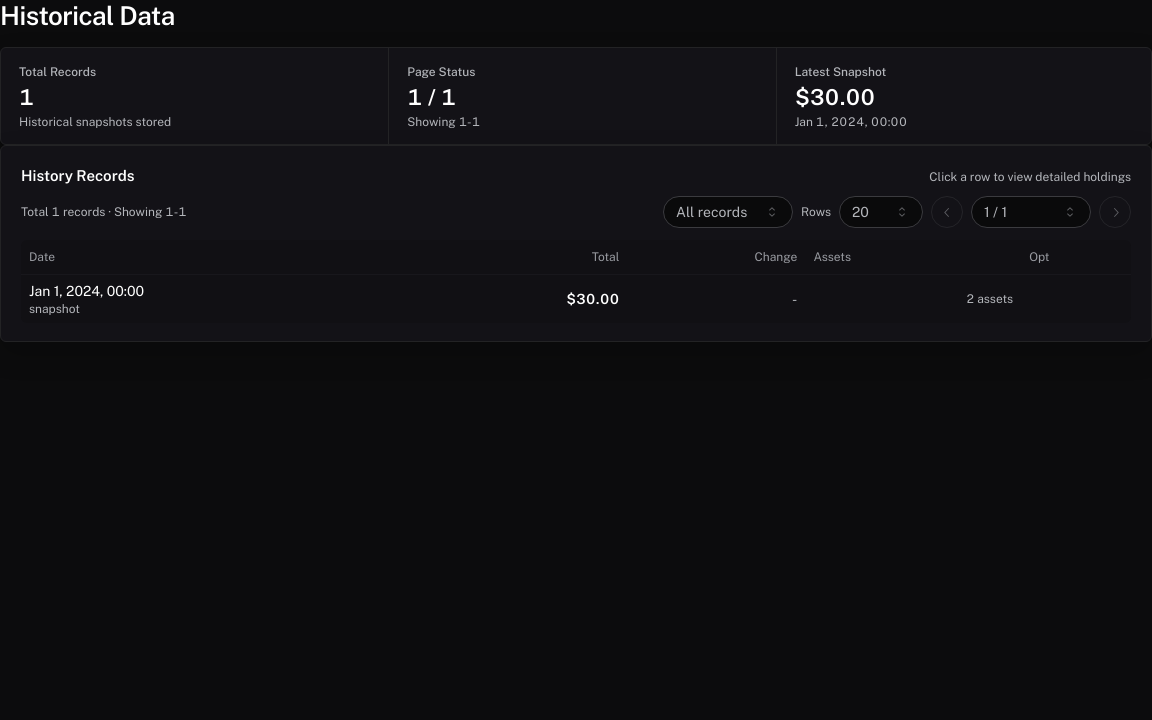
it: updates the visible snapshot total after deleting one detail asset
Click the text "snapshot" at [54, 309], box [29,302,80,316]
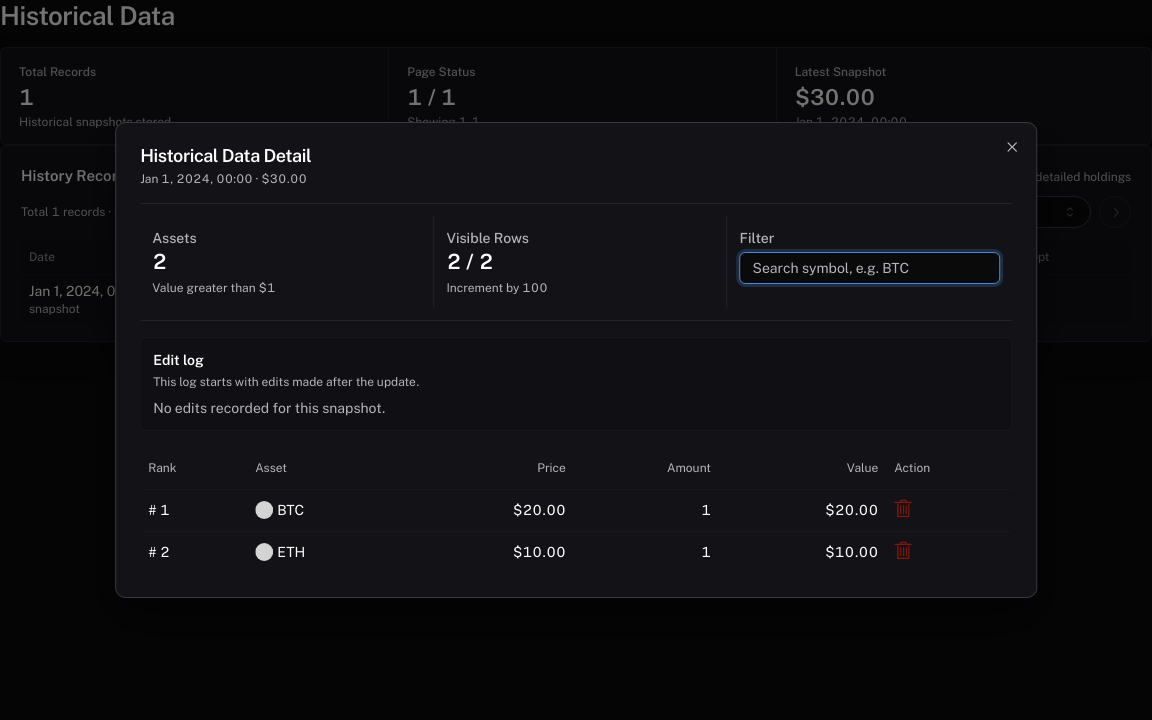
Click the button named "Delete" in the row of "ETH" at [903, 550], box [894,541,912,559]
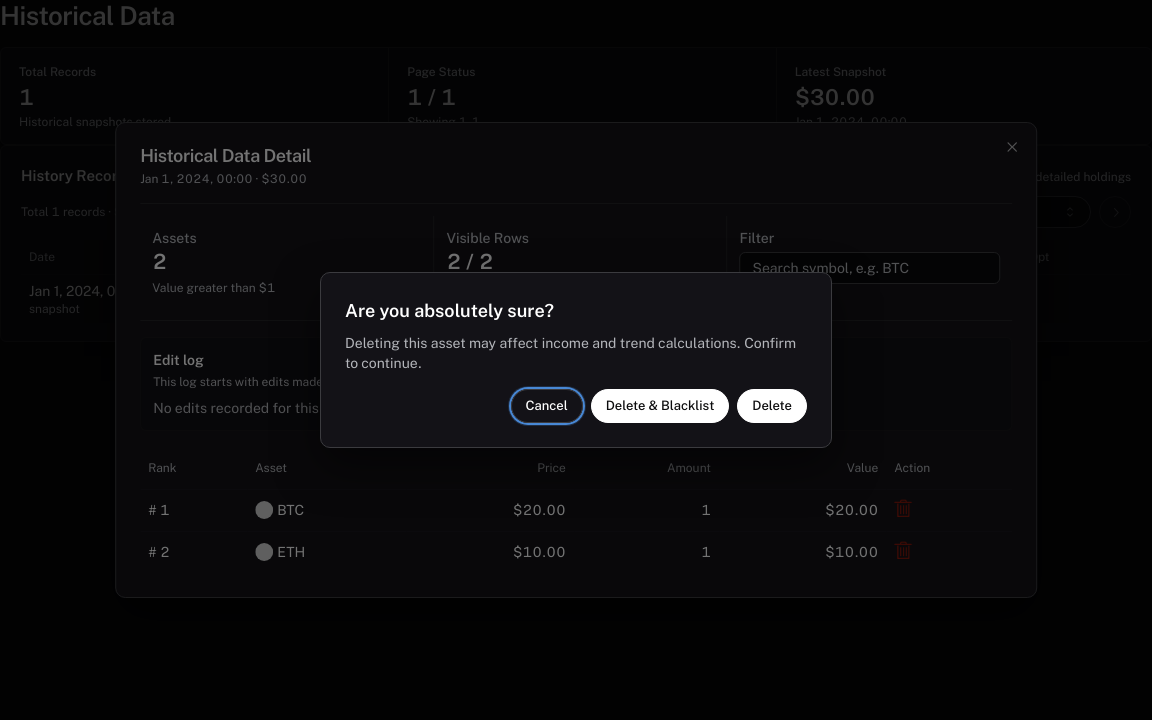
Click the button "Delete" at [772, 406], box [737,389,807,423]
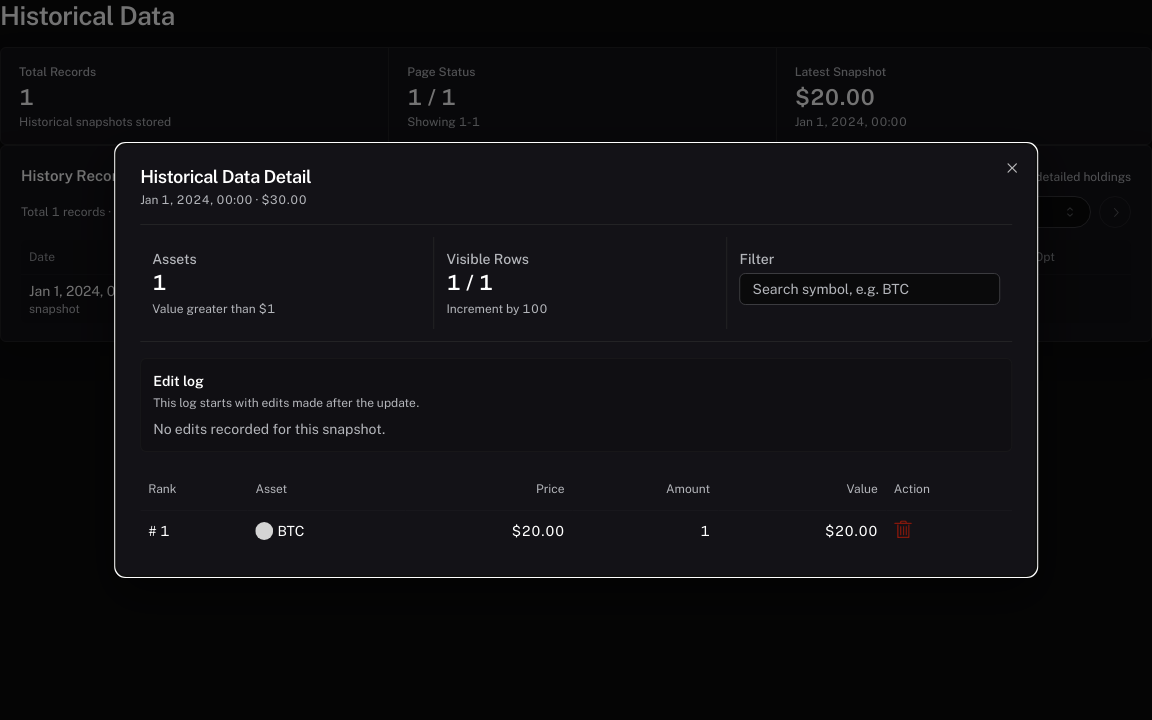
Check: the row with test id "history-snapshot-row" shows "$20.00", box [21,274,1131,323]
Check: the row with test id "history-snapshot-row" shows "1 assets", box [971,292,1019,306]
